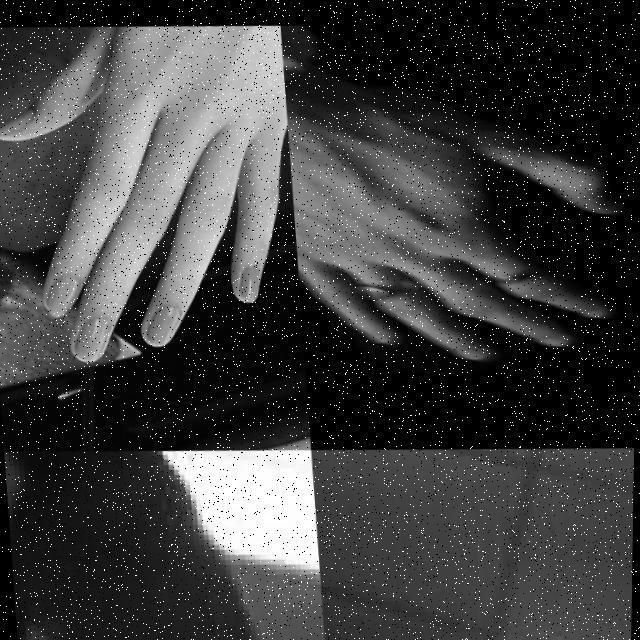no-gloves: (280, 32, 640, 380), (0, 2, 309, 383), (2, 426, 308, 640)
